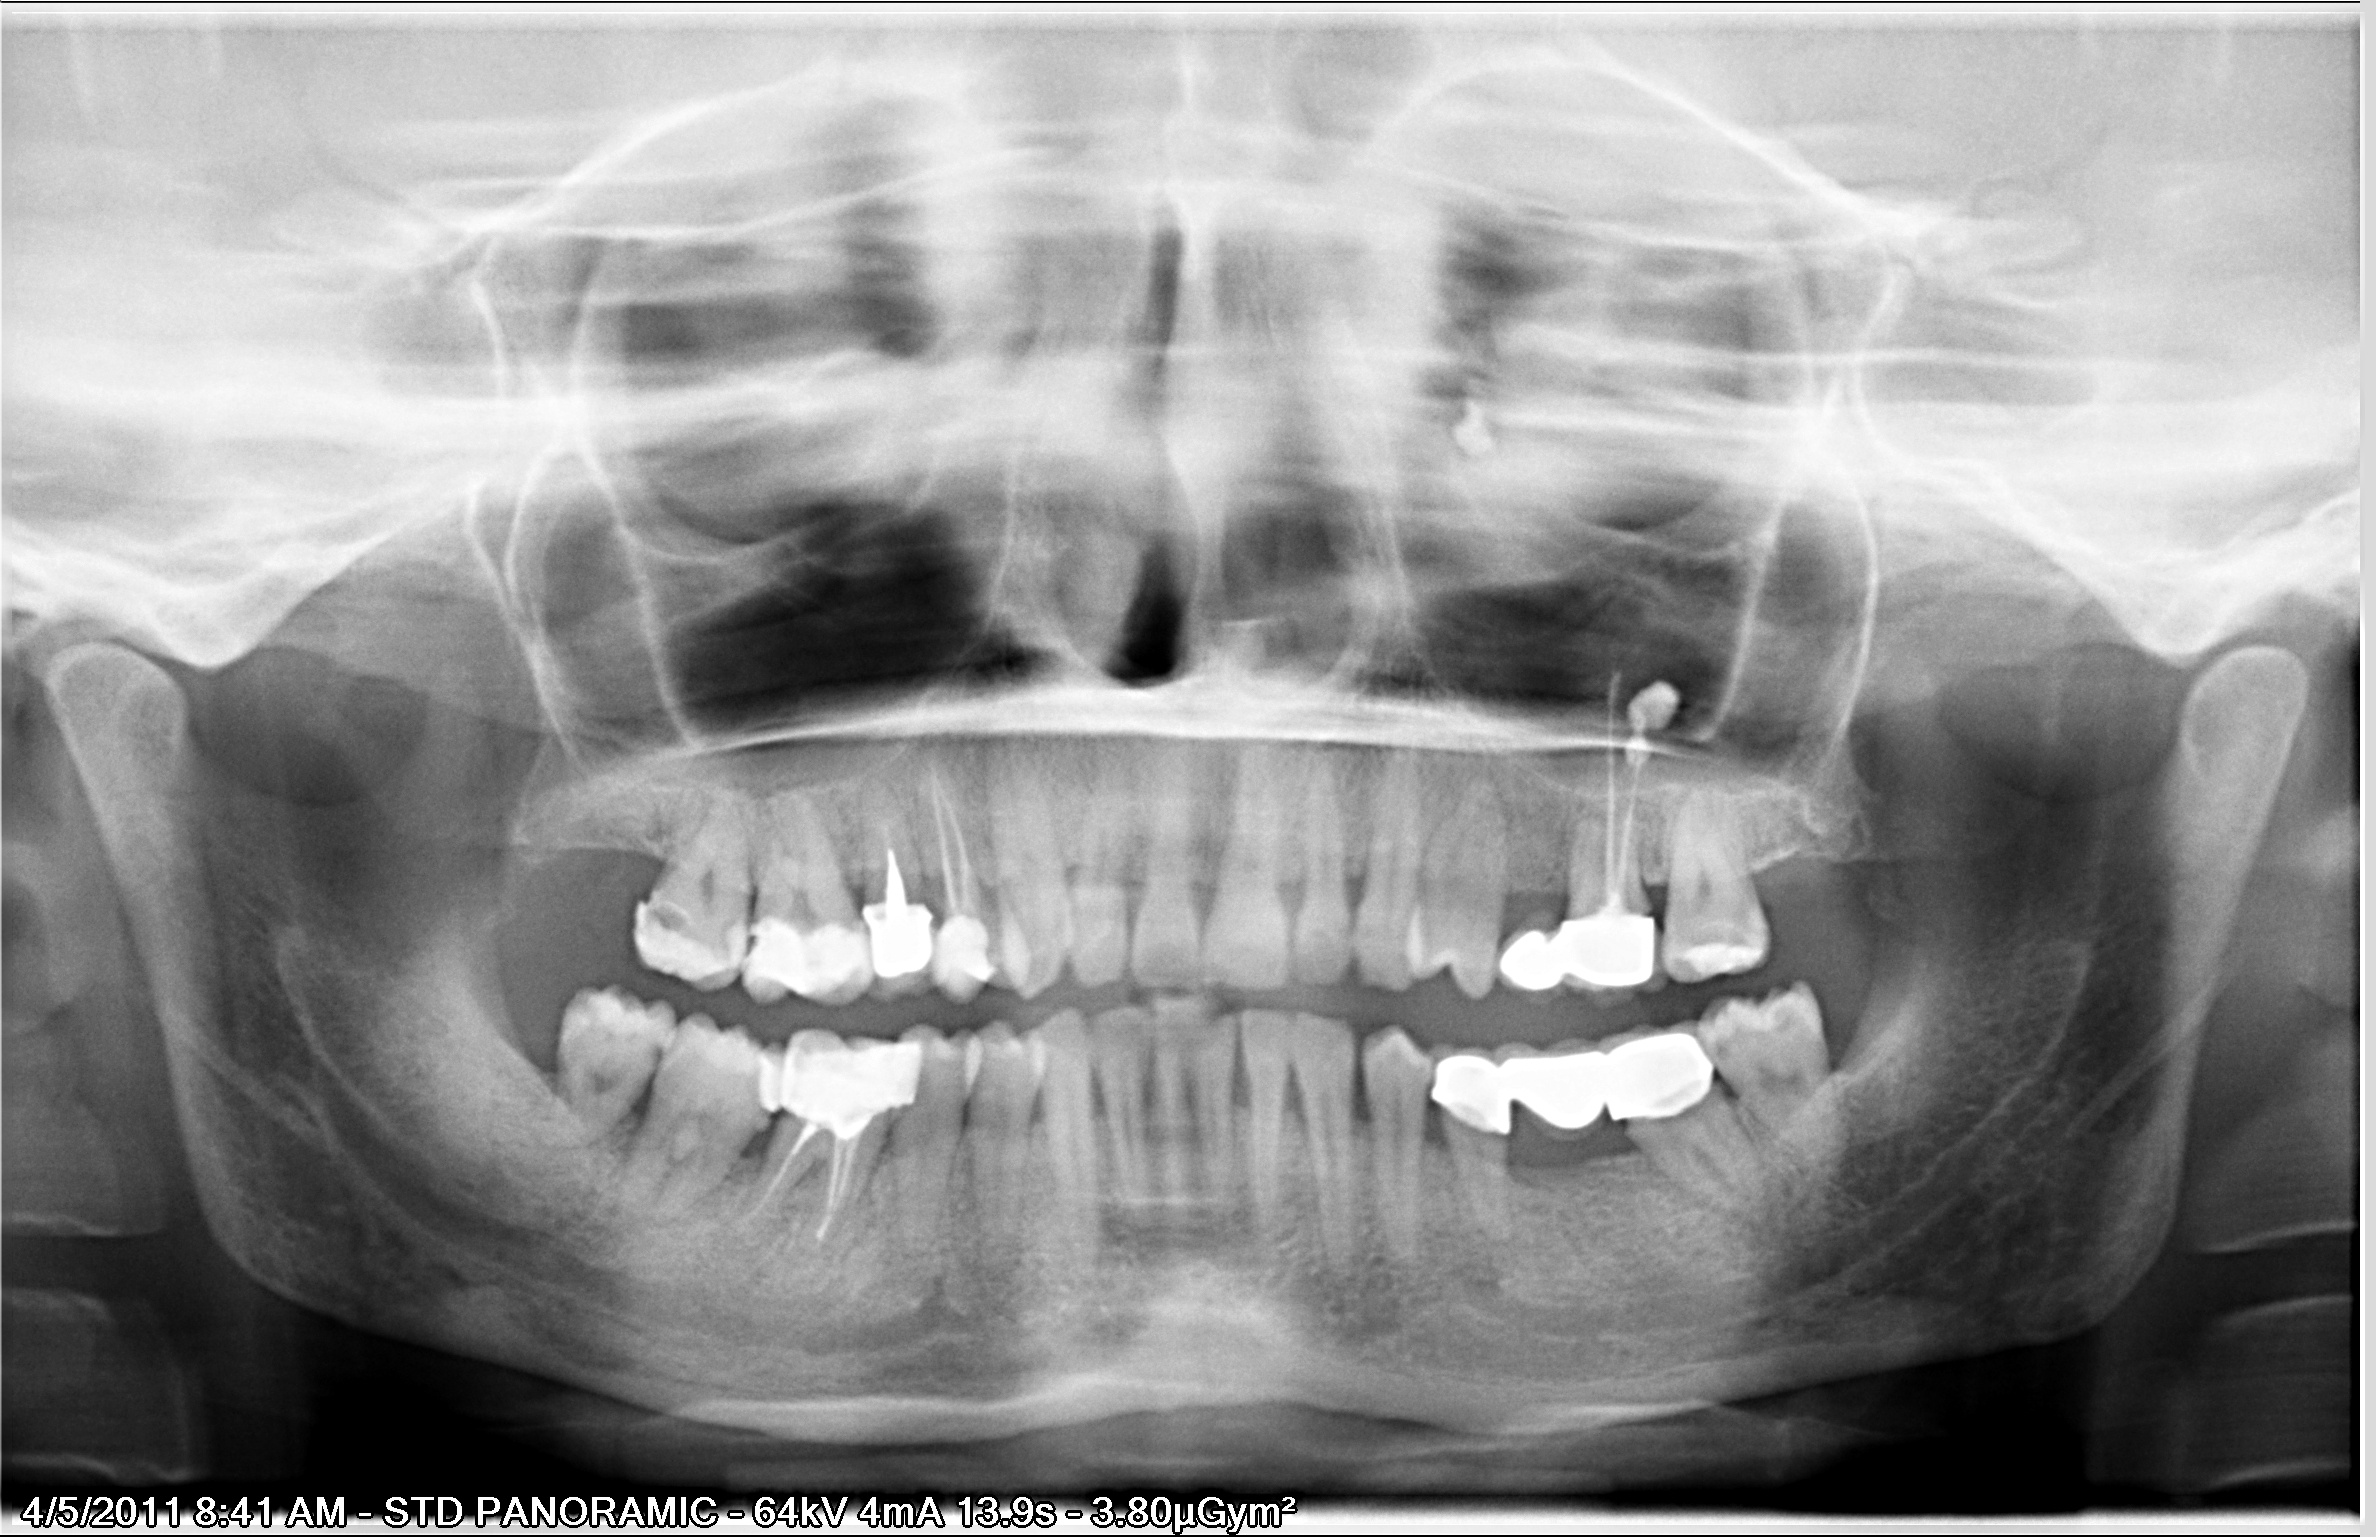CAR: (772, 523, 2376, 1537), (835, 495, 2376, 1537), (786, 415, 2376, 1352), (343, 518, 1134, 1537), (291, 492, 972, 1537), (284, 408, 991, 1360)
END: (731, 265, 2376, 1160), (275, 490, 1165, 1537), (435, 272, 1418, 1196), (383, 367, 1299, 1225)
OBT: (776, 424, 2376, 1412), (440, 492, 1403, 1537), (429, 419, 1432, 1416), (305, 414, 1185, 1419), (345, 474, 1143, 1537), (327, 421, 1100, 1388), (261, 407, 985, 1385)
PRR: (551, 429, 2291, 1537), (646, 393, 2321, 1399), (303, 459, 1238, 1537)
